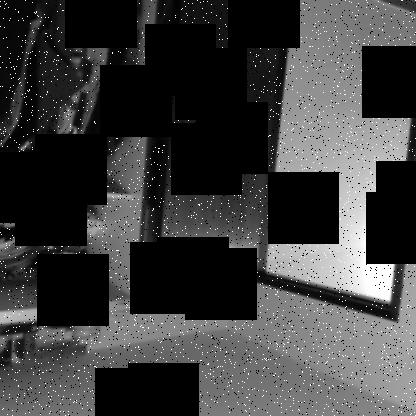Porte: (145, 1, 415, 327)
